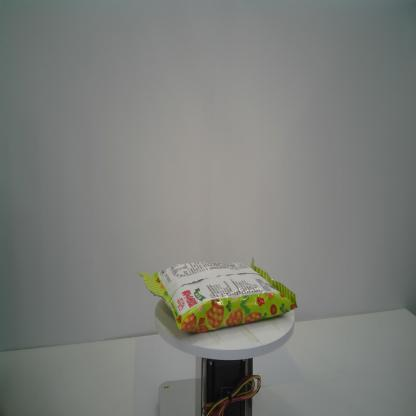Puffed Food: (135, 256, 301, 337)
